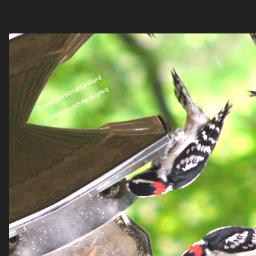Woodpecker: (75, 49, 256, 215)
